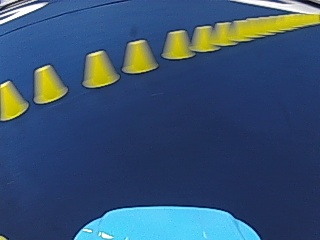cone: (82, 49, 119, 88), (32, 63, 67, 104), (122, 38, 158, 74), (0, 79, 27, 120), (161, 29, 192, 59), (191, 25, 213, 51), (211, 22, 231, 45)
